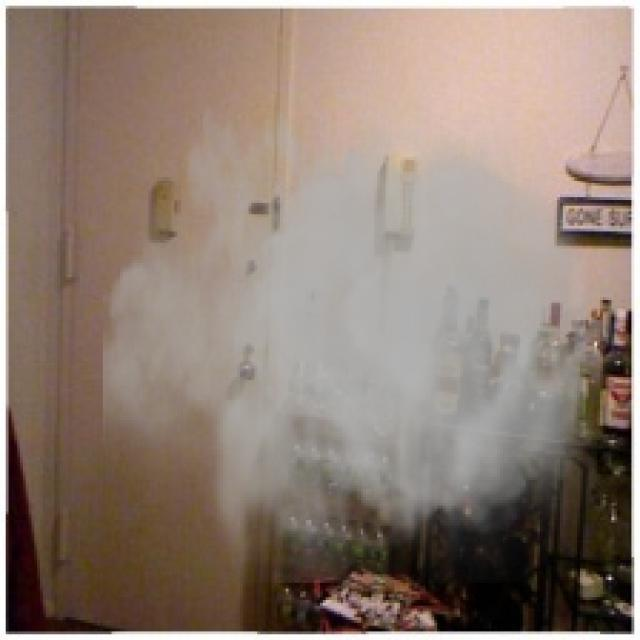Smoke: (102, 54, 618, 583)
